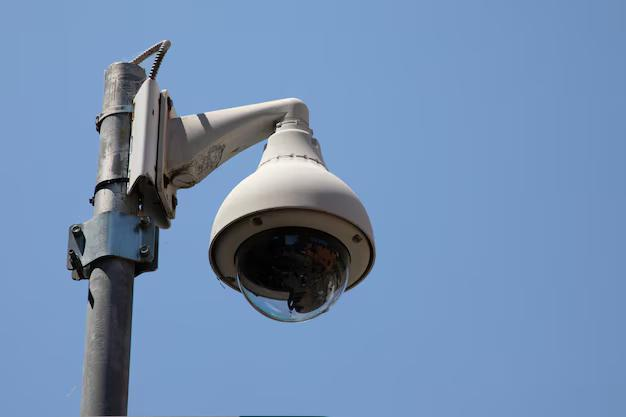360-Cam: (198, 163, 391, 327)
